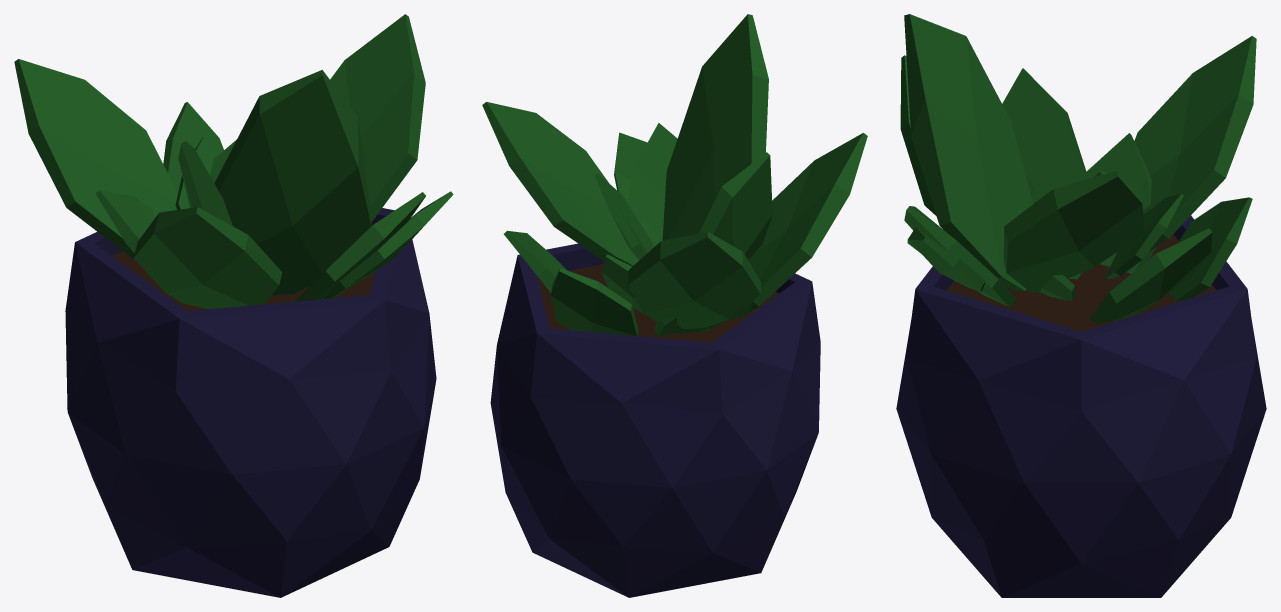
Rendered from plant4.fbx.
The picture shows the model from 3 angles, left to right: view 1: azimuth 30°, elevation 25°; view 2: azimuth 150°, elevation 25°; view 3: azimuth 270°, elevation 25°; orthographic projection. The views are drawn at different scales.
Parts seen in each view (by area): view 1: Cube.012; view 2: Cube.012; view 3: Cube.012.
Boxes of the visible parts, x1=… form: Cube.012: x1=14, y1=14, x2=453, y2=597; Cube.012: x1=482, y1=14, x2=867, y2=597; Cube.012: x1=896, y1=14, x2=1266, y2=597.
Size of the model in its own units: 74.75 by 114 by 72.56.
